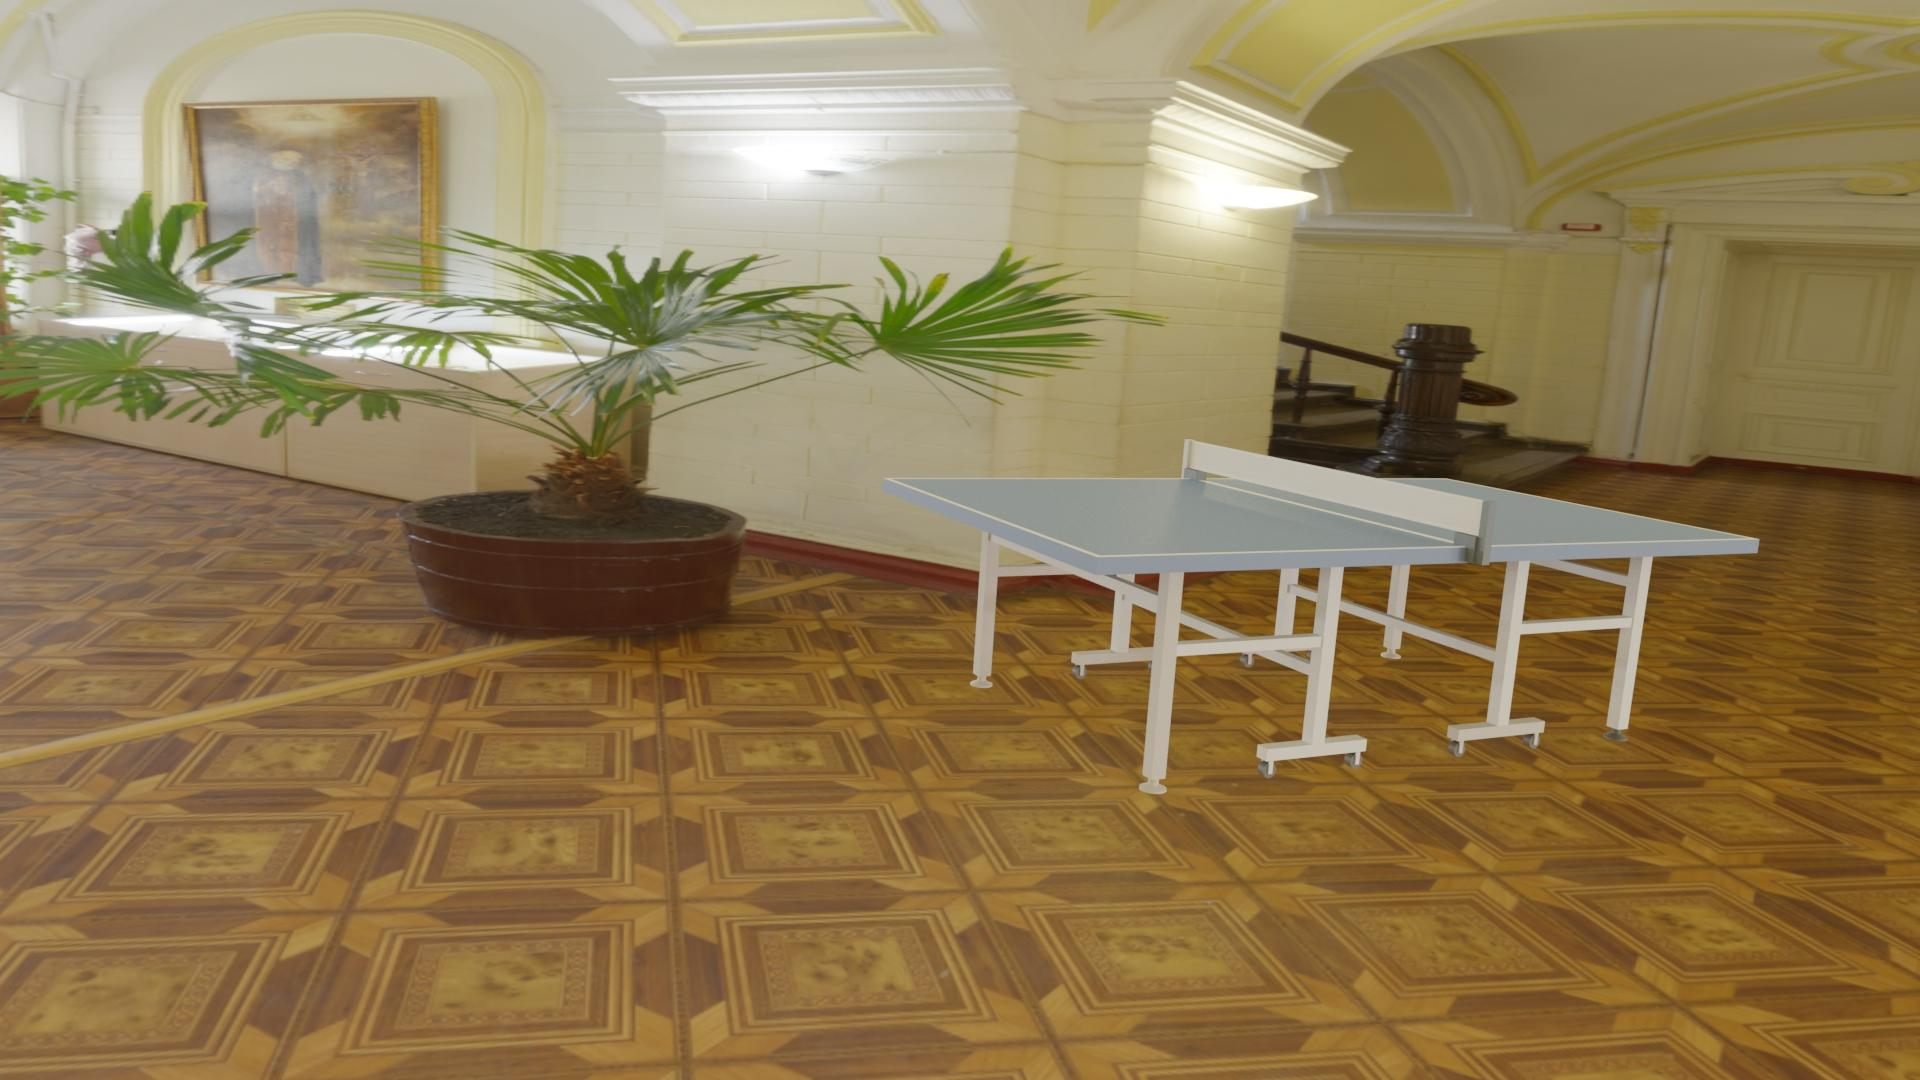table: (890, 479, 1751, 555)
